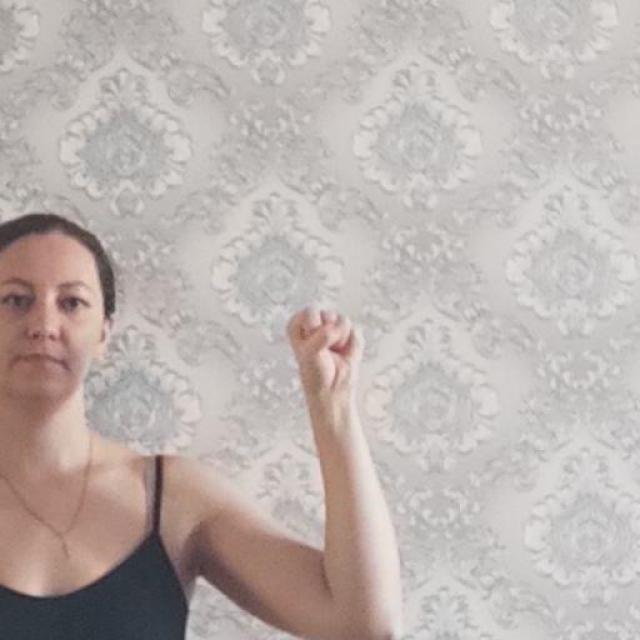hand: (284, 303, 364, 432)
